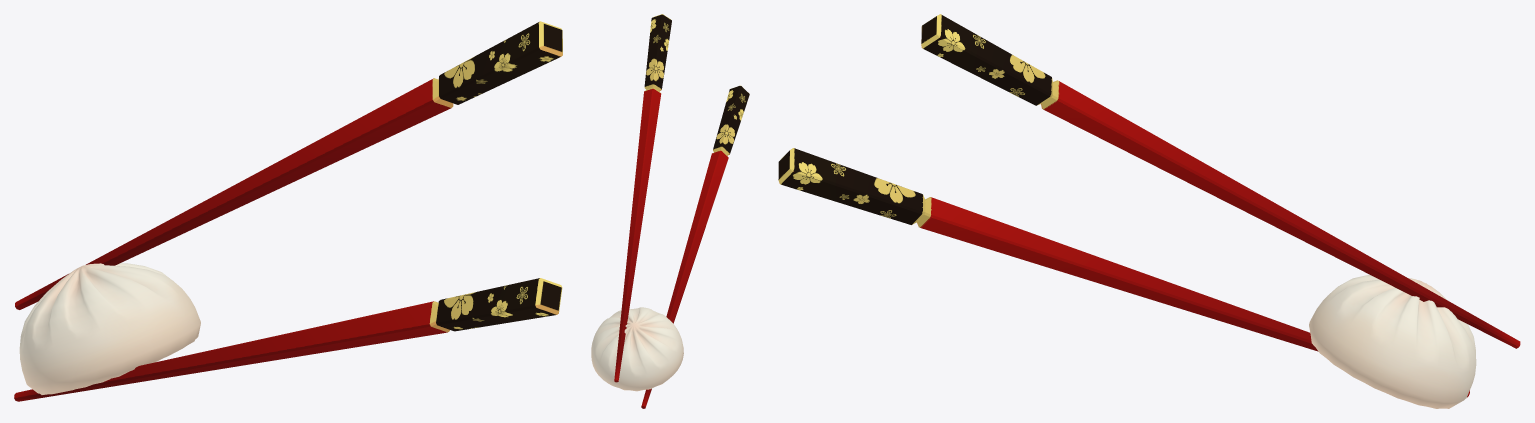
Rendered from dumpling.glb.
3 views of the same model, side by side, from view 1: azimuth 30°, elevation 25°; view 2: azimuth 150°, elevation 25°; view 3: azimuth 270°, elevation 25° (orthographic). The views are drawn at different scales.
Parts seen in each view (by area): view 1: Object_2, Object_6; view 2: Object_2, Object_6; view 3: Object_2, Object_6.
Part boxes in pixels (bbox=[...]): Object_2: bbox=[14, 21, 562, 401]; Object_6: bbox=[19, 263, 200, 394]; Object_2: bbox=[614, 14, 749, 408]; Object_6: bbox=[591, 307, 683, 391]; Object_2: bbox=[778, 14, 1520, 397]; Object_6: bbox=[1309, 275, 1476, 408].
Bounding box in the file's own units: 2.01 × 3.47 × 4.72.
Materials: 2 (2 with a texture image).
